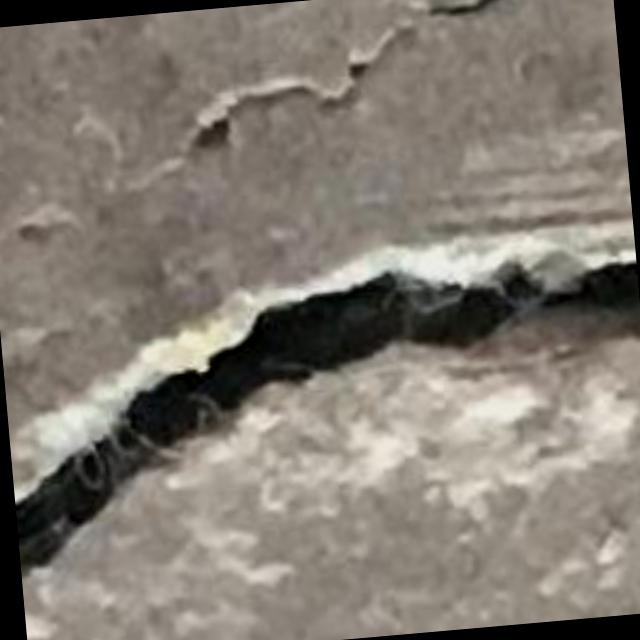crack: (15, 246, 639, 584)
